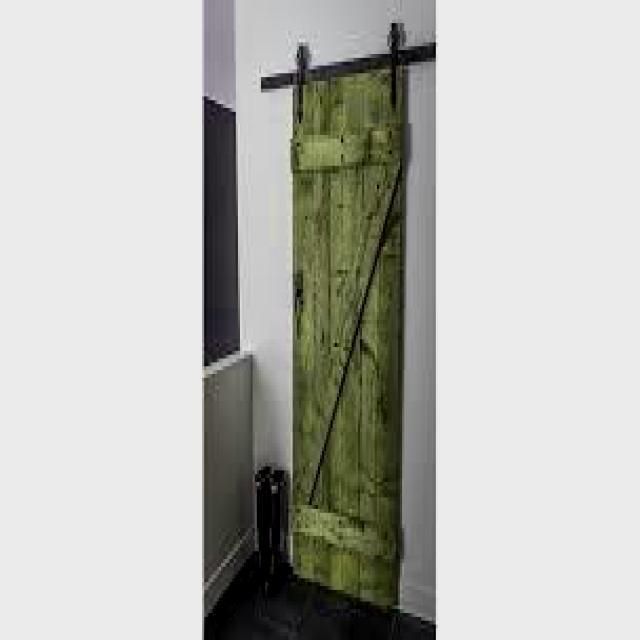door: (261, 2, 427, 630)
